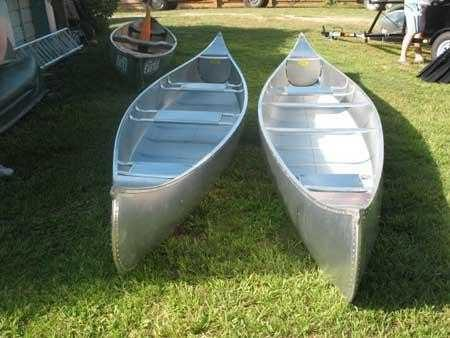kayak: (256, 31, 386, 304), (109, 31, 249, 274)
